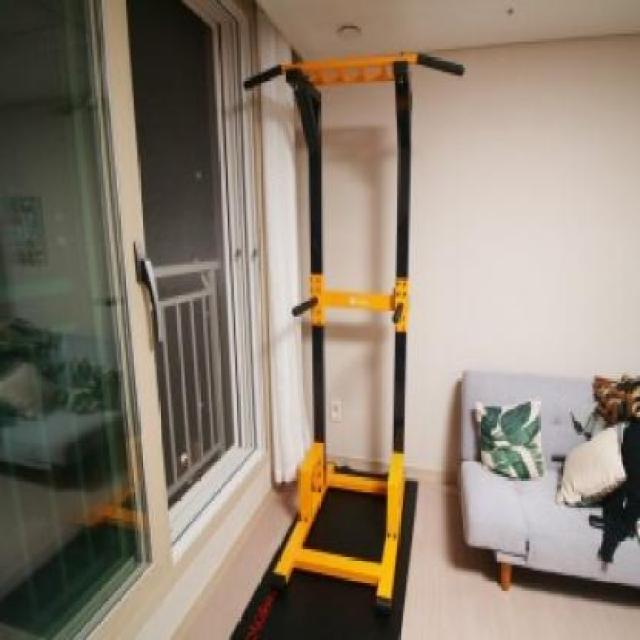chinning dipping: (243, 51, 465, 629)
